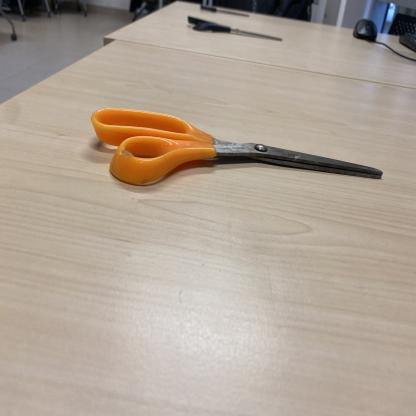scissors: (91, 107, 384, 189), (186, 15, 283, 43)
